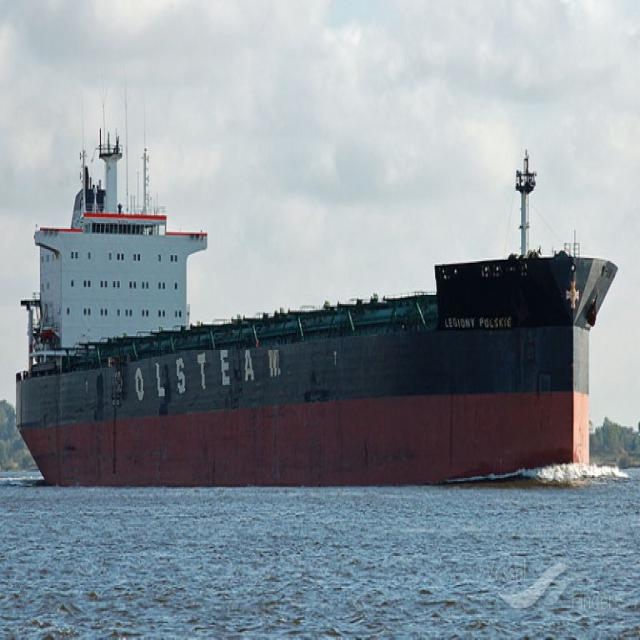OCR: (110, 351, 284, 408), (445, 304, 517, 350)
